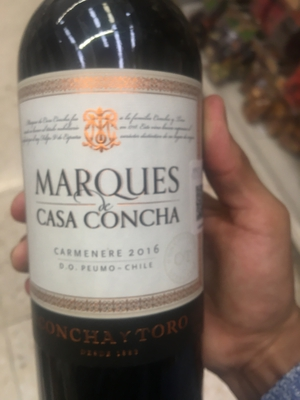marques de casa concha carmenere: (18, 12, 235, 373)
